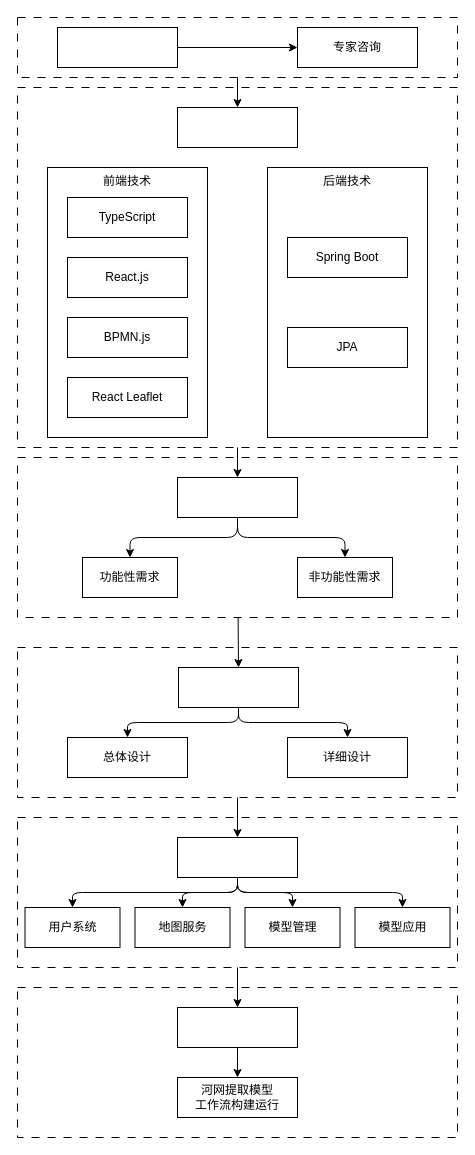
Some shapes in this 475 by 1155 pixel diagram are drawn without their labels. Here are the shapes that lost their labels. From the top down, the centre of each, then its label:
At point (117, 47): "文献阅读".
At point (237, 127): "技术选型".
At point (237, 497): "需求分析".
At point (238, 687): "系统设计".
At point (237, 857): "系统实现".
At point (237, 1027): "系统案例应用".
